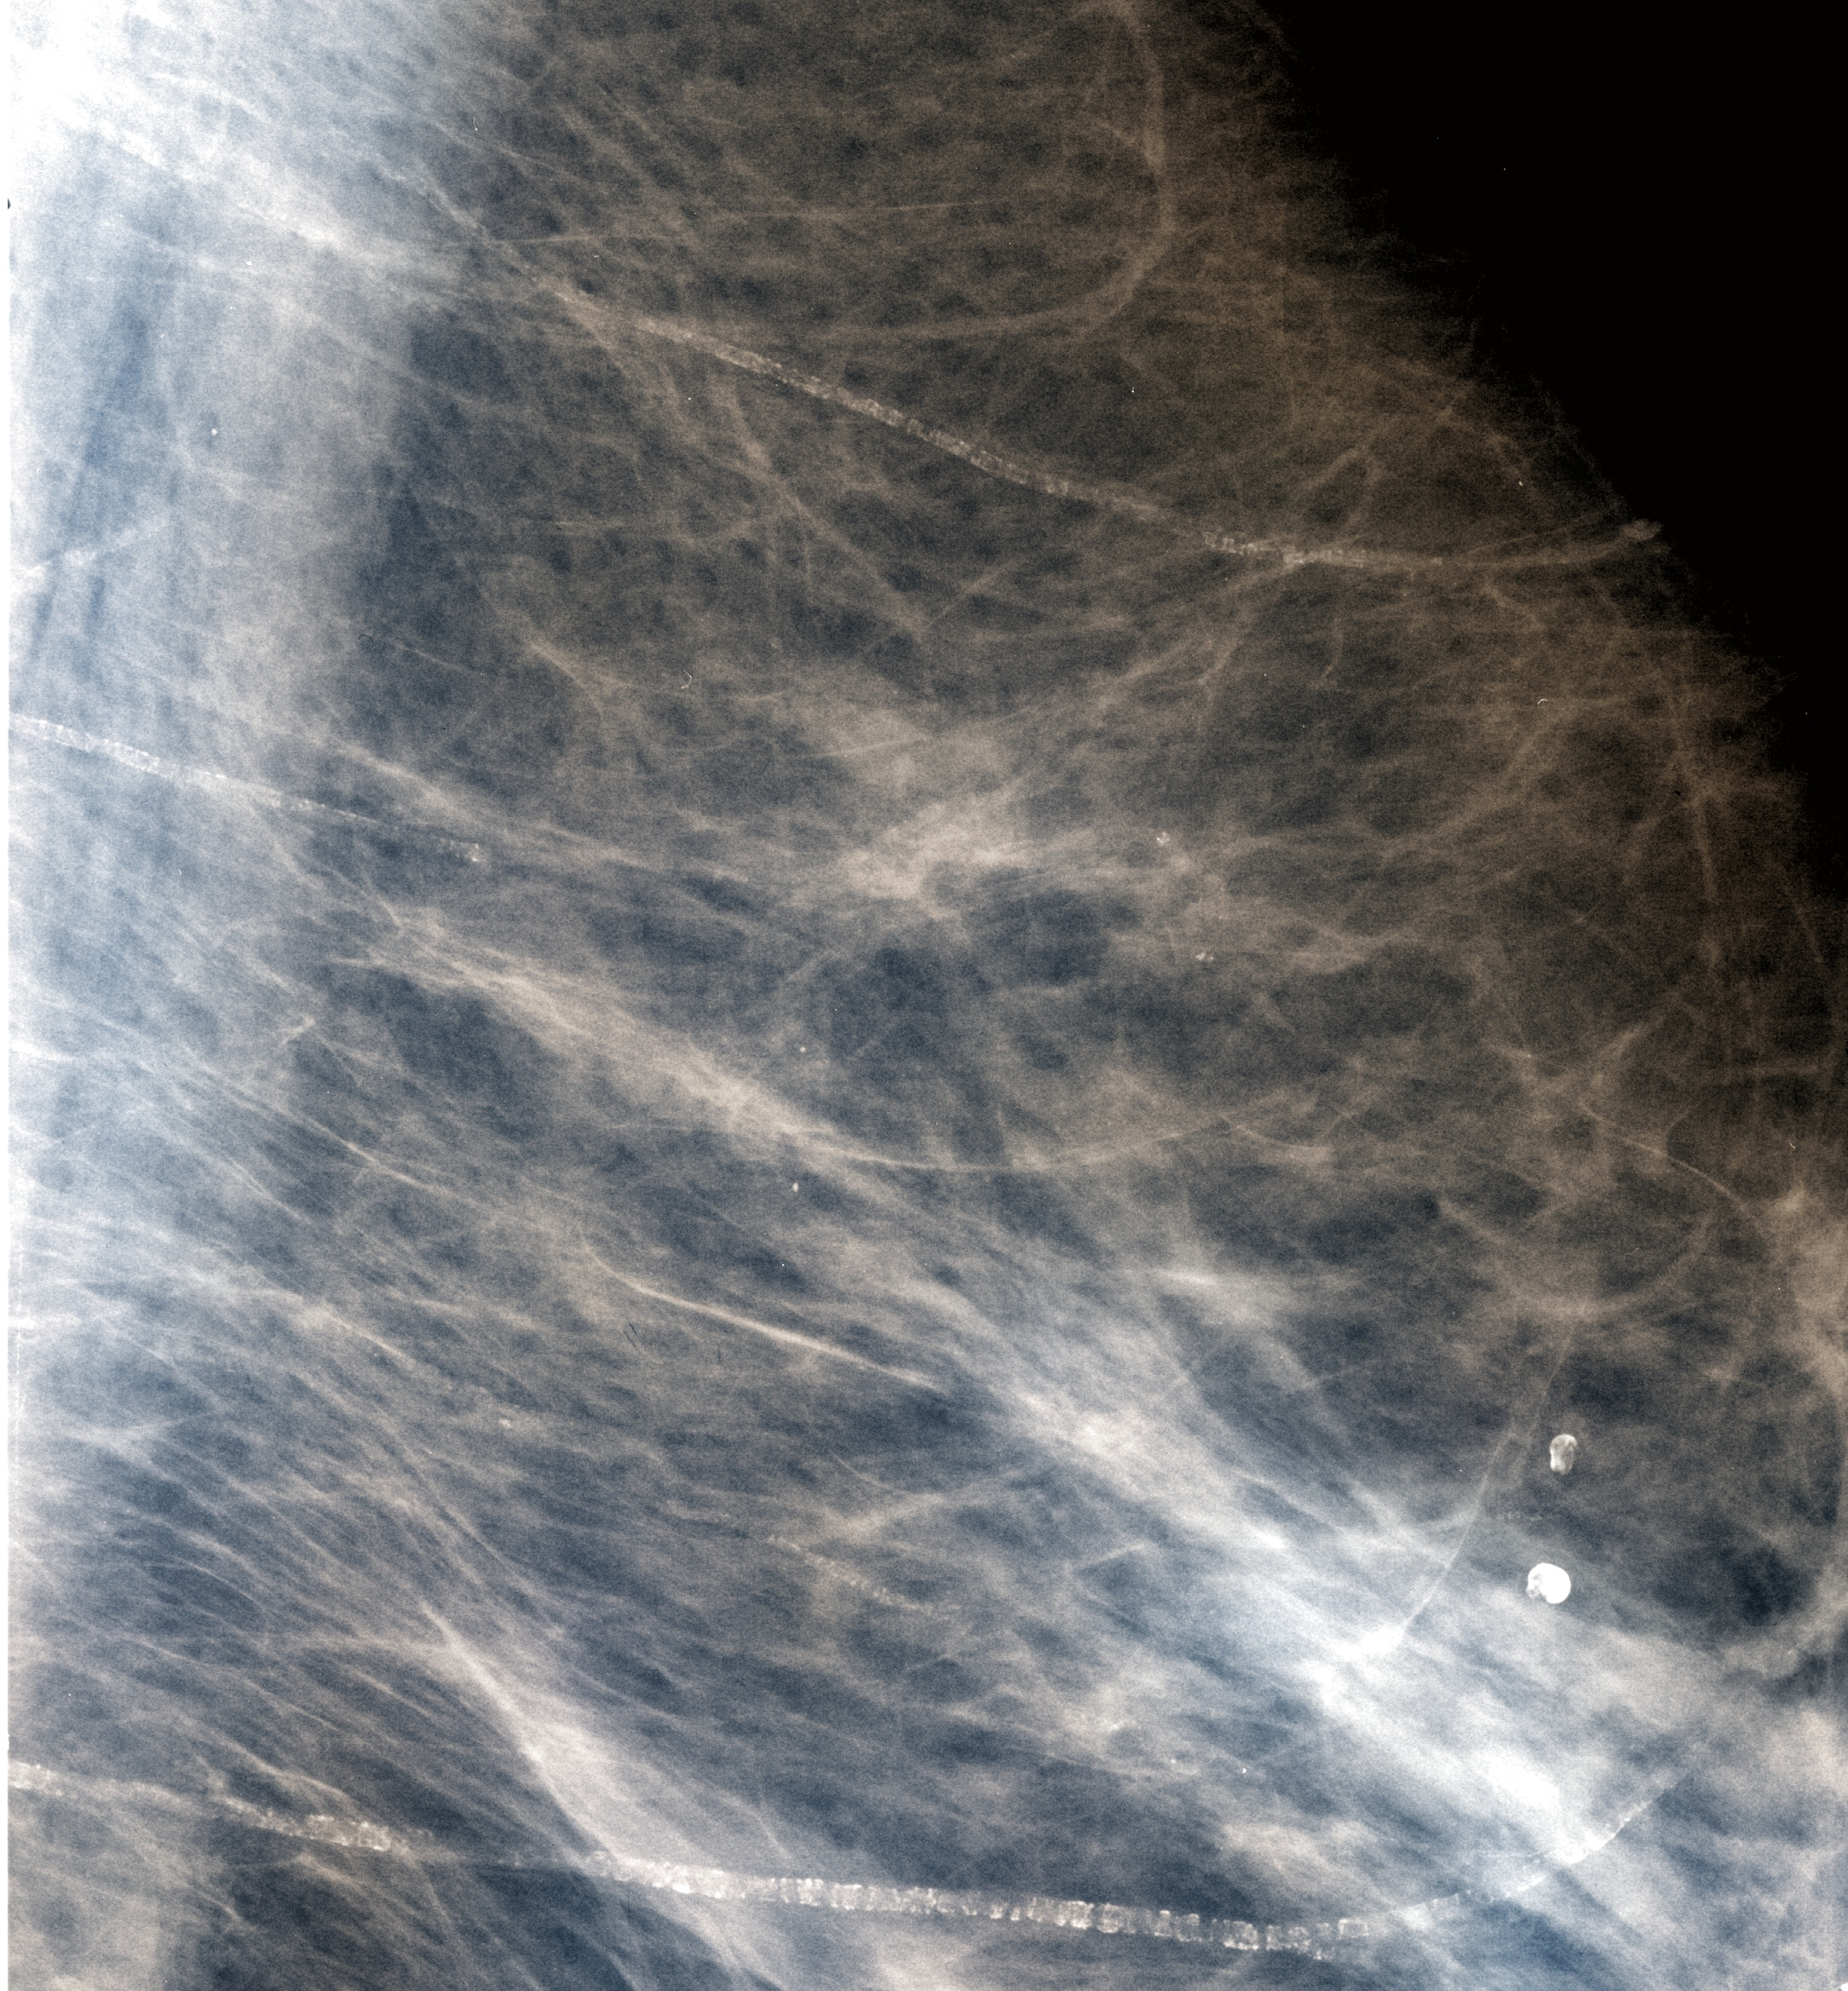tumor: (0, 0, 1685, 620), (0, 1560, 1848, 1991), (1513, 1411, 1617, 1501), (1513, 1548, 1603, 1642)
